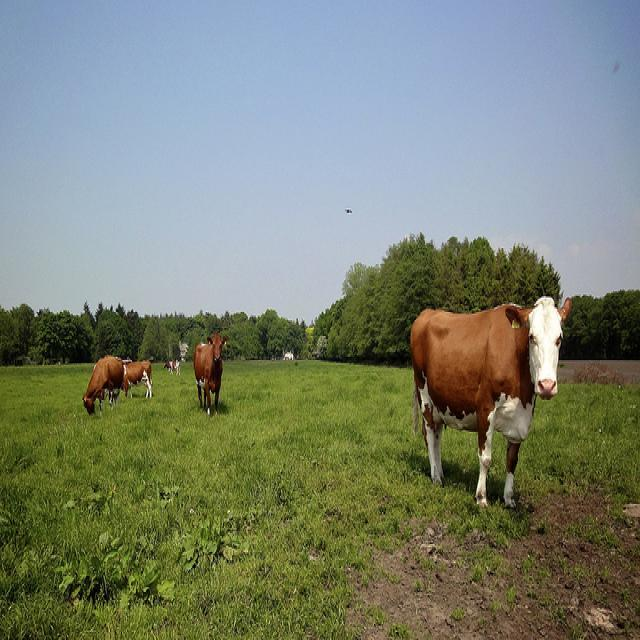cow: (409, 294, 572, 509), (193, 332, 229, 415), (80, 354, 123, 415), (121, 358, 151, 397), (161, 358, 179, 373)
